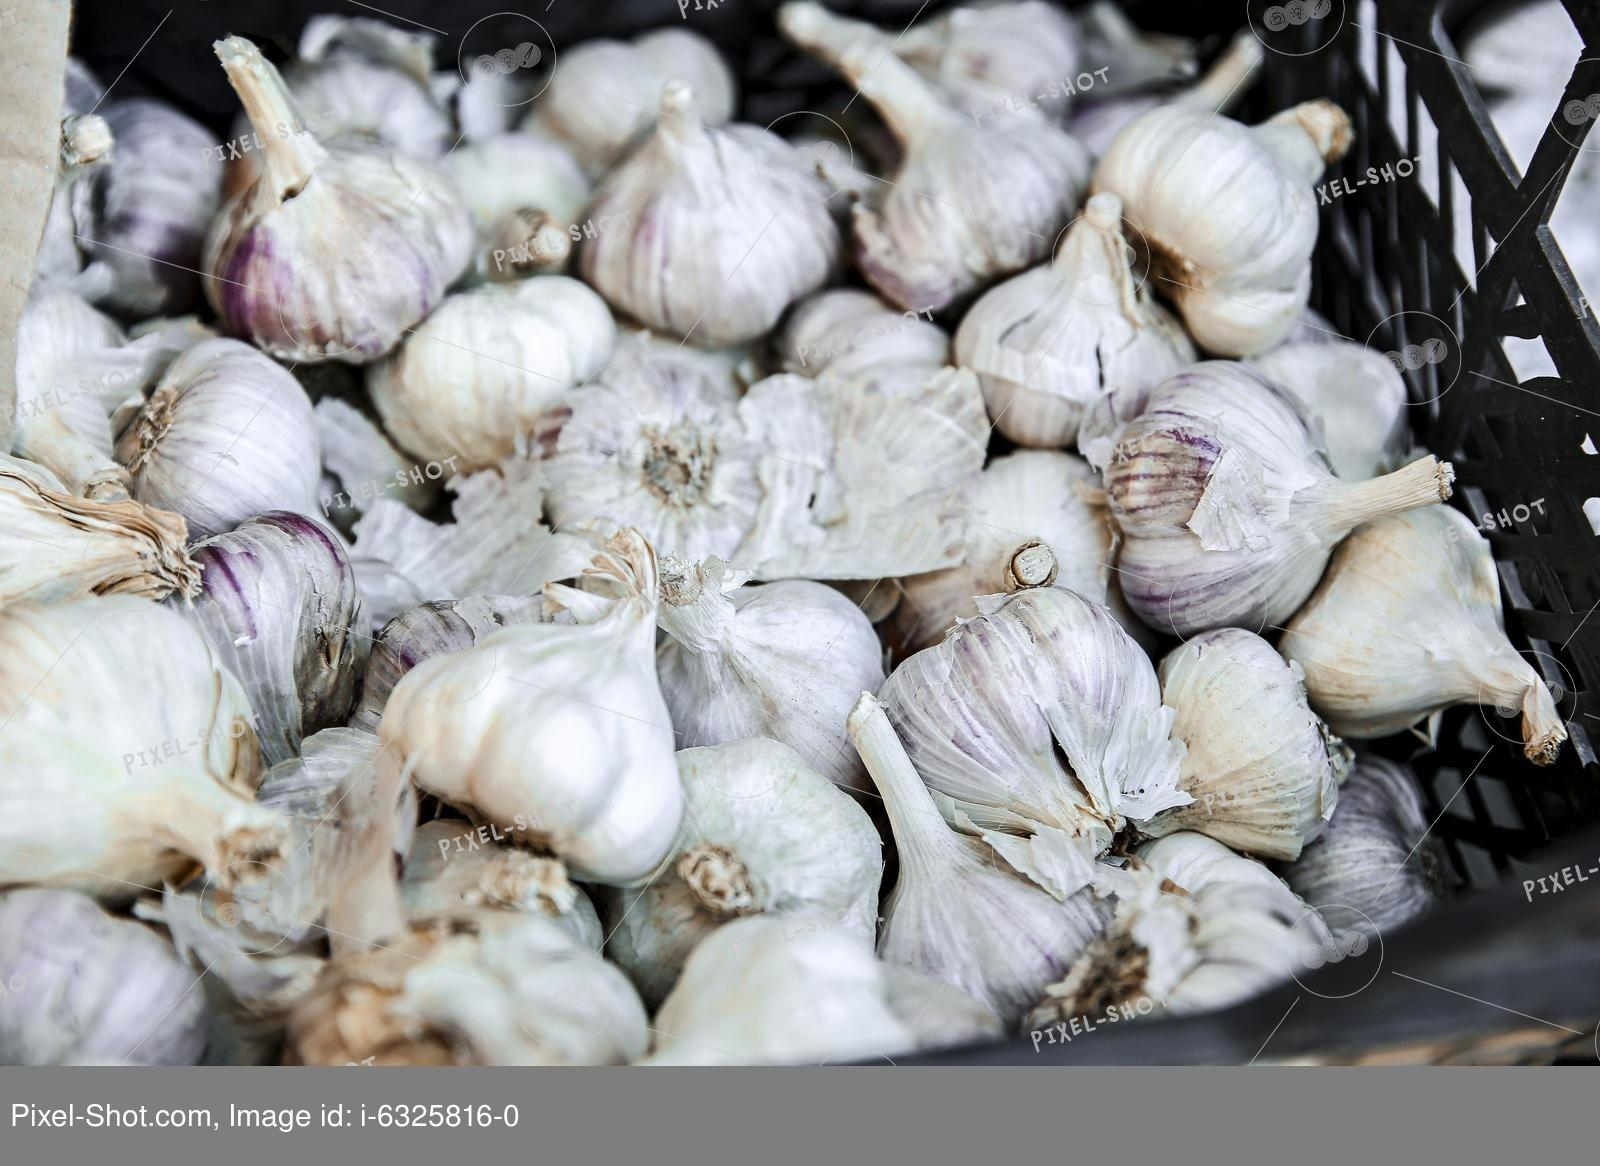garlic: (10, 11, 1591, 1057)
